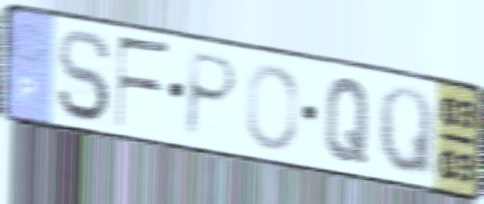F: (114, 33, 174, 132)
O: (244, 62, 301, 154)
P: (181, 47, 242, 140)
Q: (375, 83, 436, 182), (322, 74, 373, 167)
S: (54, 26, 114, 125)
